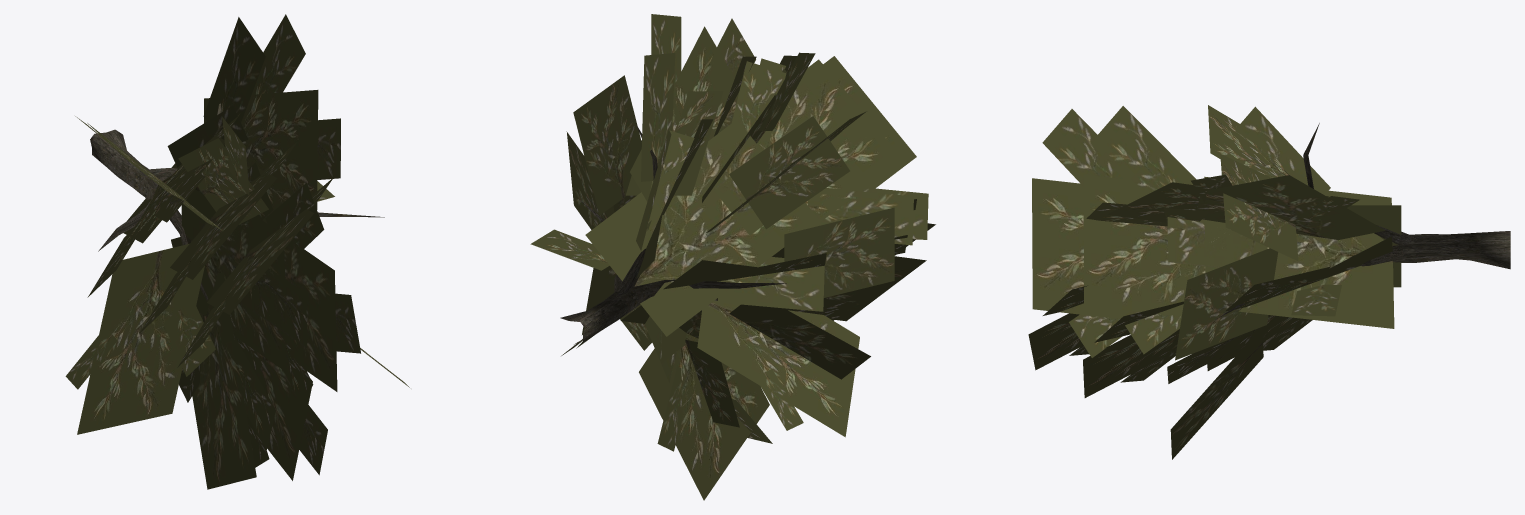
The model's file is tree_desertbushy.glb.
3 views of the same model, side by side, from view 1: azimuth 30°, elevation 25°; view 2: azimuth 150°, elevation 25°; view 3: azimuth 270°, elevation 25° (orthographic). The views are drawn at different scales.
Size of the model in its own units: 355 by 385 by 393.
2 materials, 2 textured.
